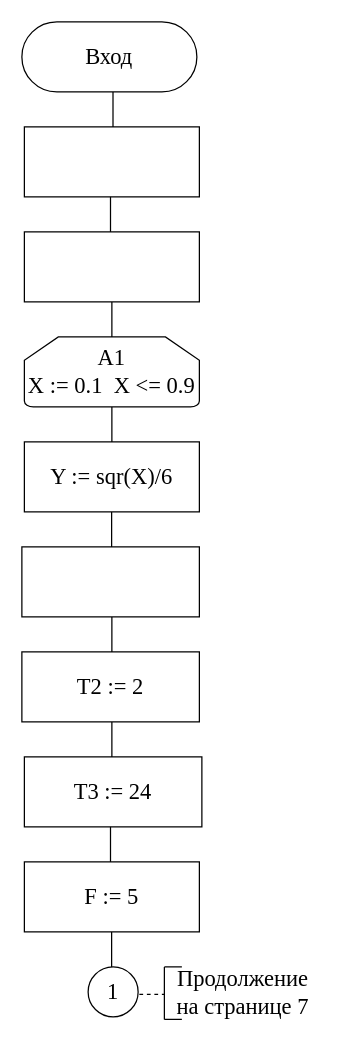
Image size: 344x1043. Some labels were removed from this diagram. The box of each missing label's shape, as (x1, y1, x2, y2) in pixels:
Const Eps1 = 0.00001: (23, 126, 199, 197)
Const Eps2 = 0.000001: (23, 231, 199, 302)
T1 := exp(ln(X)*3): (21, 546, 199, 617)
